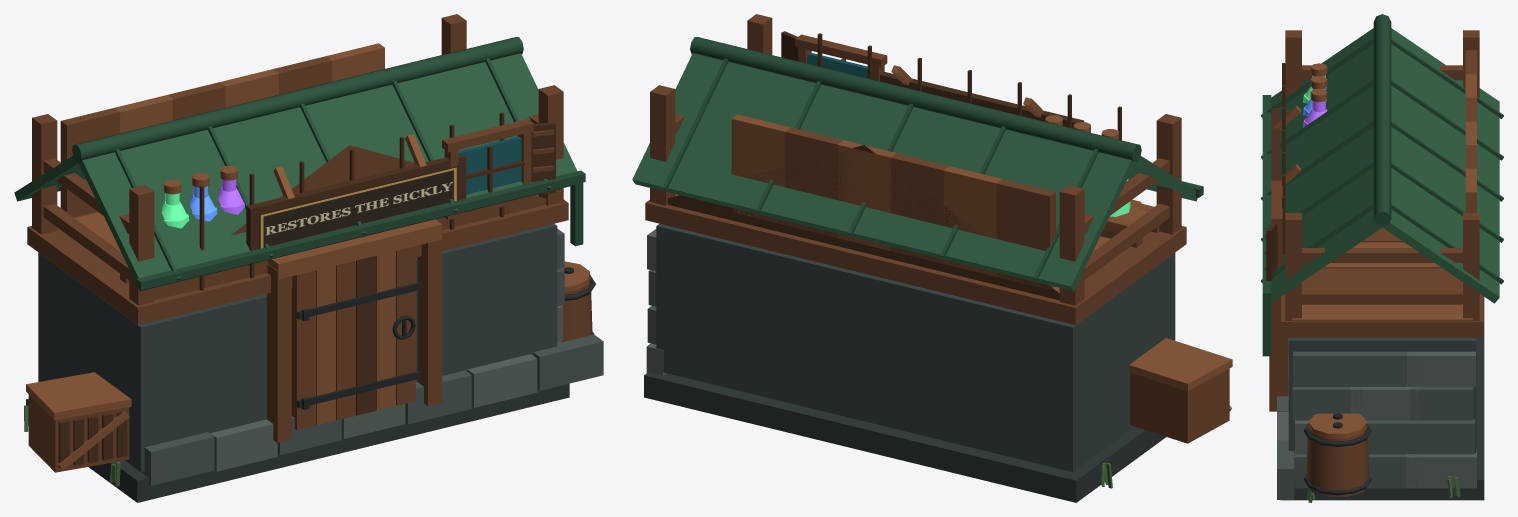
File: item_shop.glb
3 views of the same model, side by side, from view 1: azimuth 30°, elevation 25°; view 2: azimuth 150°, elevation 25°; view 3: azimuth 270°, elevation 25° (orthographic). The views are drawn at different scales.
Parts seen in each view (by area): view 1: MedievalFantasyItemShop, FrontRoofPanel, RearRoofPanel; view 2: MedievalFantasyItemShop, RearRoofPanel, FrontRoofPanel; view 3: MedievalFantasyItemShop, RearRoofPanel, FrontRoofPanel.
Boxes of the visible parts, x1,y1,x2,y2 form: MedievalFantasyItemShop: [24, 14, 603, 502]; FrontRoofPanel: [78, 53, 577, 291]; RearRoofPanel: [14, 156, 85, 201]; MedievalFantasyItemShop: [644, 14, 1232, 502]; RearRoofPanel: [632, 53, 1134, 291]; FrontRoofPanel: [1128, 156, 1197, 201]; MedievalFantasyItemShop: [1262, 14, 1484, 502]; RearRoofPanel: [1382, 28, 1503, 303]; FrontRoofPanel: [1261, 28, 1381, 302].
Size of the model in its own units: 9.33 by 5.18 by 3.91.
17 materials, 1 textured.
